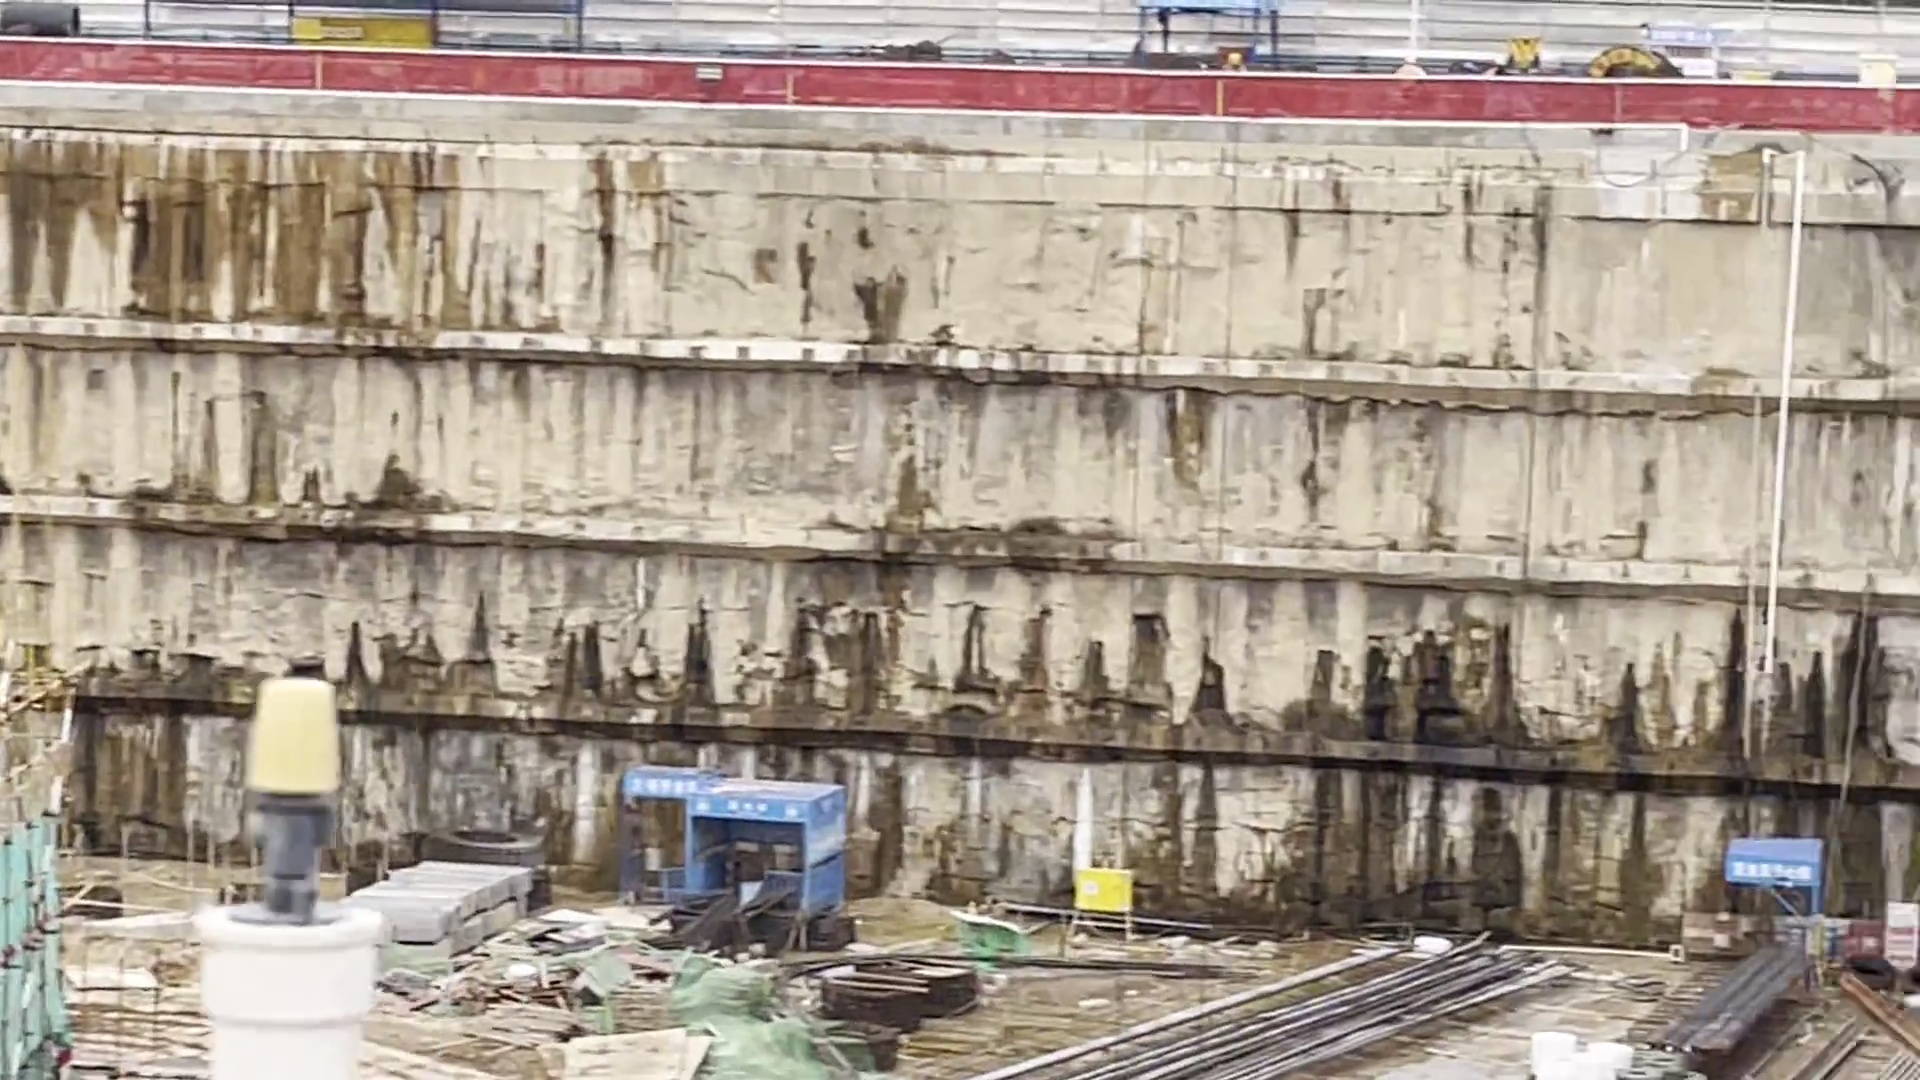ebox: (1059, 833, 1155, 967)
fence: (4, 20, 1884, 160)
slogan: (1720, 835, 1866, 911)
